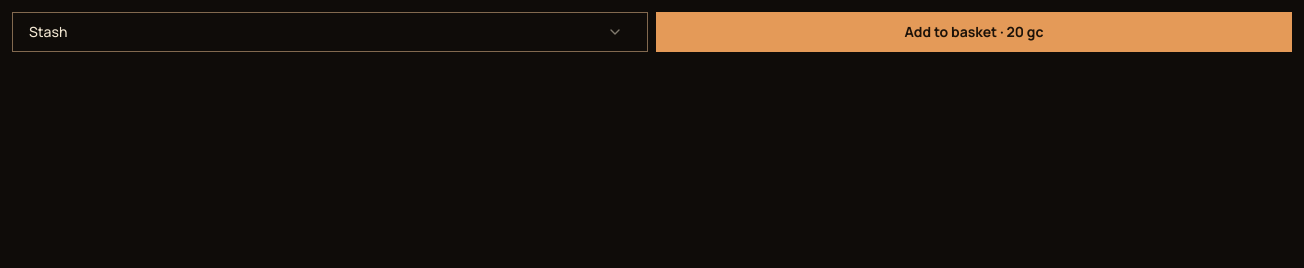
Test case: AddToBasket › sections the units and gives a group what its members' copies come to
Later steps or results of the test are not shown.
Click the dropdown named "Who gets it" at point(48, 32), box top-left (12, 12), bottom-right (648, 52)
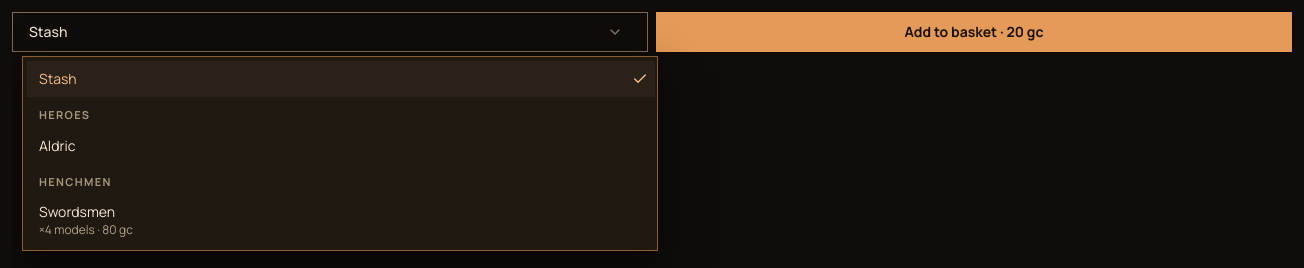
expect the text "Heroes" is shown: met, box top-left (39, 107), bottom-right (90, 122)
expect the text "Henchmen" is shown: met, box top-left (39, 174), bottom-right (112, 188)
expect the option "Swordsmen ×4 models · 80 gc" is shown: met, box top-left (39, 202), bottom-right (133, 238)
